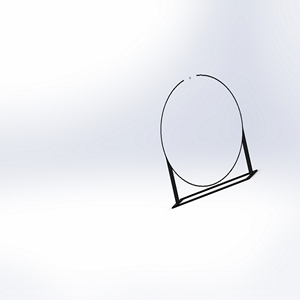circle: (158, 72, 258, 209)
